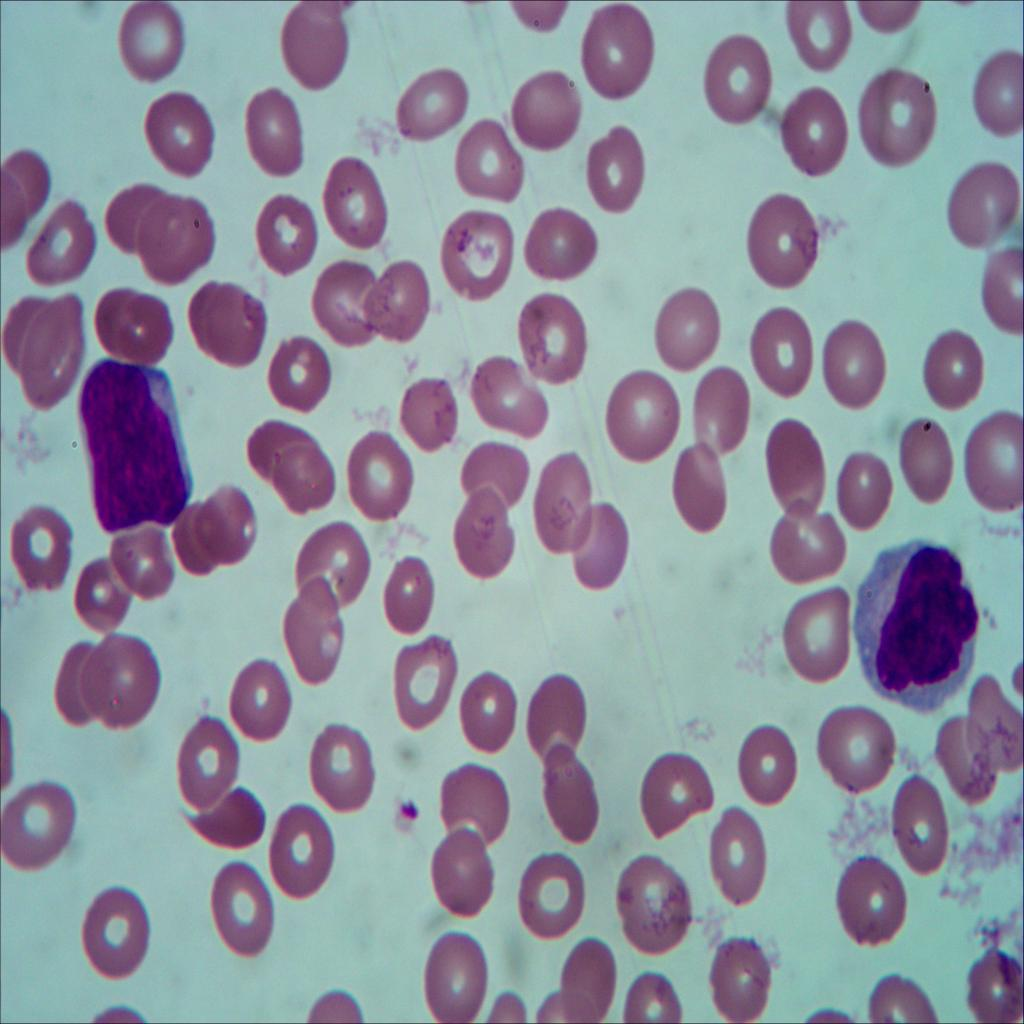Eritrosit: (604, 834, 700, 968), (166, 260, 271, 371), (7, 287, 86, 416), (742, 173, 826, 293), (855, 59, 938, 179), (750, 400, 831, 520), (504, 282, 593, 388), (882, 761, 956, 888), (589, 368, 681, 470), (781, 585, 859, 704), (309, 247, 387, 360), (814, 706, 904, 801), (470, 350, 558, 446), (353, 252, 440, 349), (632, 742, 718, 839), (666, 442, 740, 554), (939, 152, 1024, 249), (834, 852, 916, 952), (94, 282, 179, 378), (505, 54, 590, 150), (260, 796, 335, 904), (704, 28, 779, 136), (142, 79, 221, 179), (449, 110, 528, 210), (577, 11, 656, 110), (303, 720, 381, 820), (84, 630, 163, 728), (416, 930, 498, 1024), (516, 200, 604, 287), (539, 739, 606, 853), (1, 778, 77, 878), (443, 660, 522, 756), (702, 930, 782, 1024), (226, 652, 300, 753), (170, 710, 246, 808), (960, 400, 1024, 516), (433, 212, 517, 300), (773, 490, 849, 587), (774, 87, 854, 179), (561, 492, 630, 598), (115, 0, 196, 90), (425, 826, 503, 918), (76, 885, 147, 986), (347, 431, 423, 525), (208, 861, 279, 961), (394, 62, 474, 149), (682, 362, 752, 460), (912, 328, 988, 418), (21, 190, 100, 276), (589, 112, 649, 224), (139, 194, 218, 279), (550, 930, 620, 1024), (820, 316, 890, 409), (706, 804, 773, 901), (278, 5, 350, 95), (731, 724, 803, 814), (434, 767, 512, 850), (296, 527, 372, 612), (454, 482, 522, 576), (325, 152, 385, 257), (282, 582, 344, 682), (533, 452, 593, 555), (379, 550, 446, 642), (10, 514, 83, 598), (514, 860, 590, 940), (647, 288, 720, 370), (899, 418, 964, 510), (197, 482, 263, 571), (958, 677, 1024, 766), (241, 88, 309, 174), (828, 447, 896, 533), (395, 654, 462, 740), (258, 187, 317, 284), (262, 333, 332, 414), (70, 549, 133, 639), (104, 176, 174, 256), (752, 309, 814, 398), (107, 523, 180, 598), (784, 0, 861, 71), (279, 443, 347, 523), (192, 789, 271, 855), (239, 419, 315, 485), (389, 377, 461, 443), (965, 946, 1024, 1024), (942, 725, 998, 807), (461, 441, 534, 503), (530, 680, 591, 754), (156, 496, 214, 570), (60, 634, 107, 724), (978, 49, 1024, 138), (0, 144, 45, 232)
Limfoblast: (848, 531, 990, 717), (76, 354, 204, 530)
Platelet: (394, 791, 422, 839)
